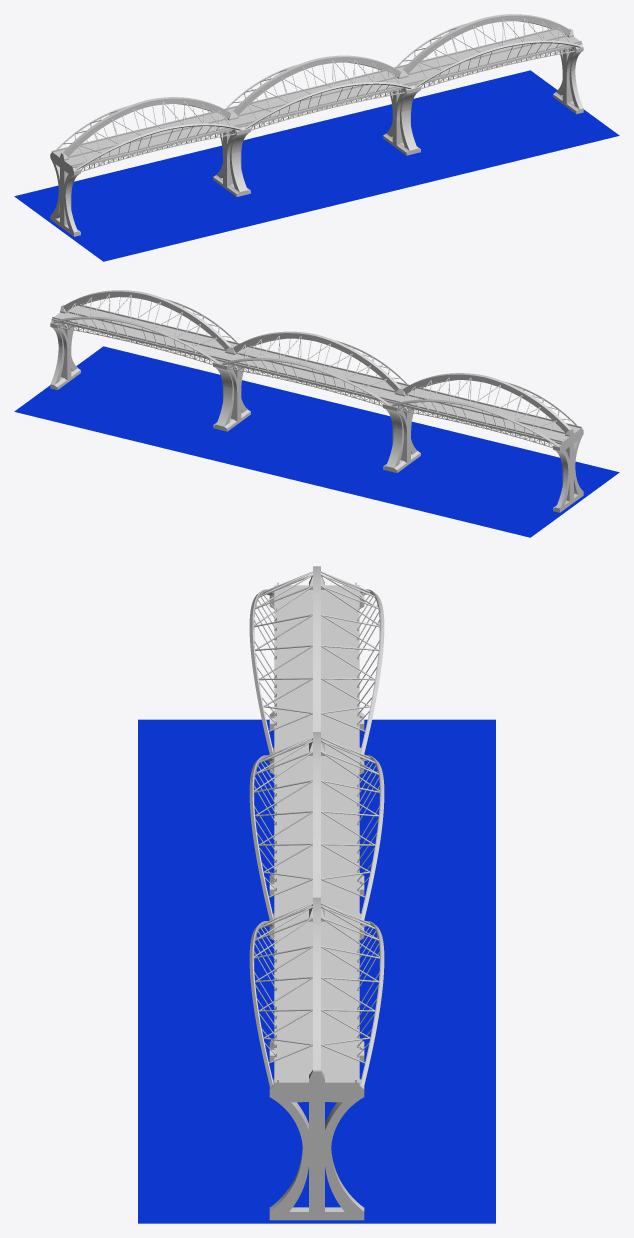
Rendered from bridge_blue.fbx.
The picture shows the model from 3 angles, top to bottom: view 1: azimuth 30°, elevation 25°; view 2: azimuth 150°, elevation 25°; view 3: azimuth 270°, elevation 25°; orthographic projection. The views are drawn at different scales.
Parts seen in each view (by area): view 1: ree_ree, bridge2; view 2: ree_ree, bridge2; view 3: ree_ree, bridge2.
Boxes of the visible parts, bbox=[...] form: ree_ree: bbox=[14, 70, 619, 261]; bridge2: bbox=[50, 14, 583, 236]; ree_ree: bbox=[14, 346, 619, 537]; bridge2: bbox=[50, 290, 583, 512]; ree_ree: bbox=[138, 719, 495, 1223]; bridge2: bbox=[249, 566, 384, 1220].
Size of the model in its own units: 10 by 1.97 by 3.
